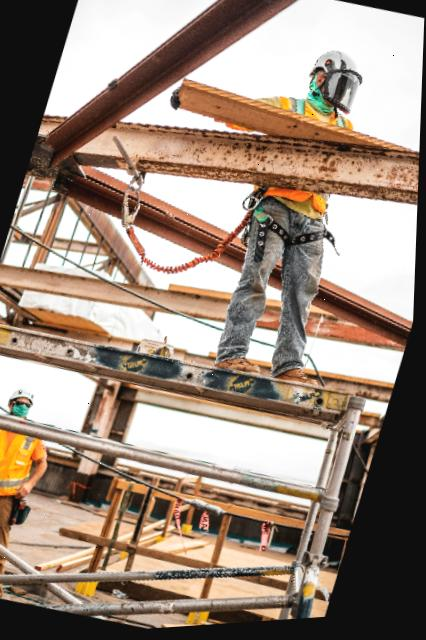helmet: (7, 377, 44, 407)
vest: (0, 410, 52, 500)
